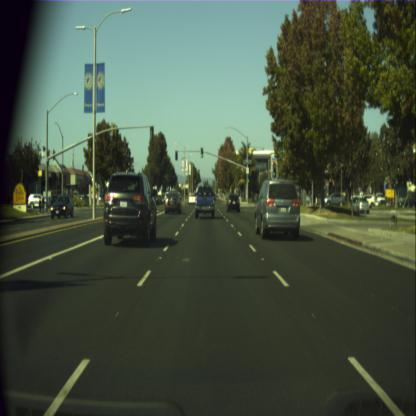Green: (272, 164, 276, 177), (200, 147, 204, 158), (247, 174, 249, 184)
off: (175, 150, 178, 161)
